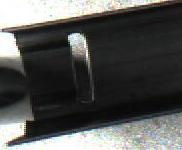press: (0, 11, 139, 143)
